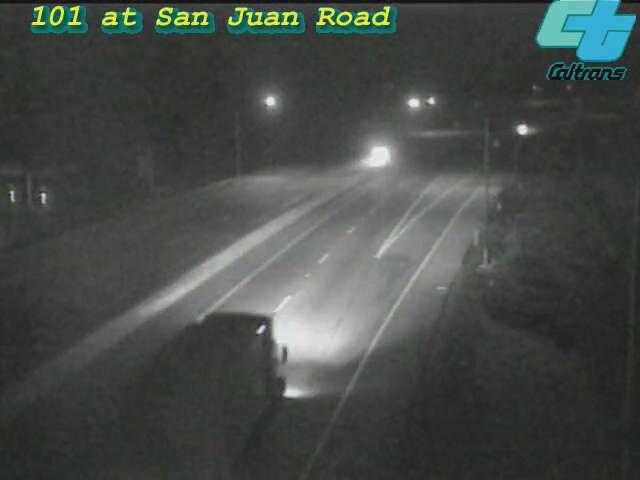vehicle: (323, 100, 433, 210), (152, 332, 262, 442), (499, 103, 549, 153)
